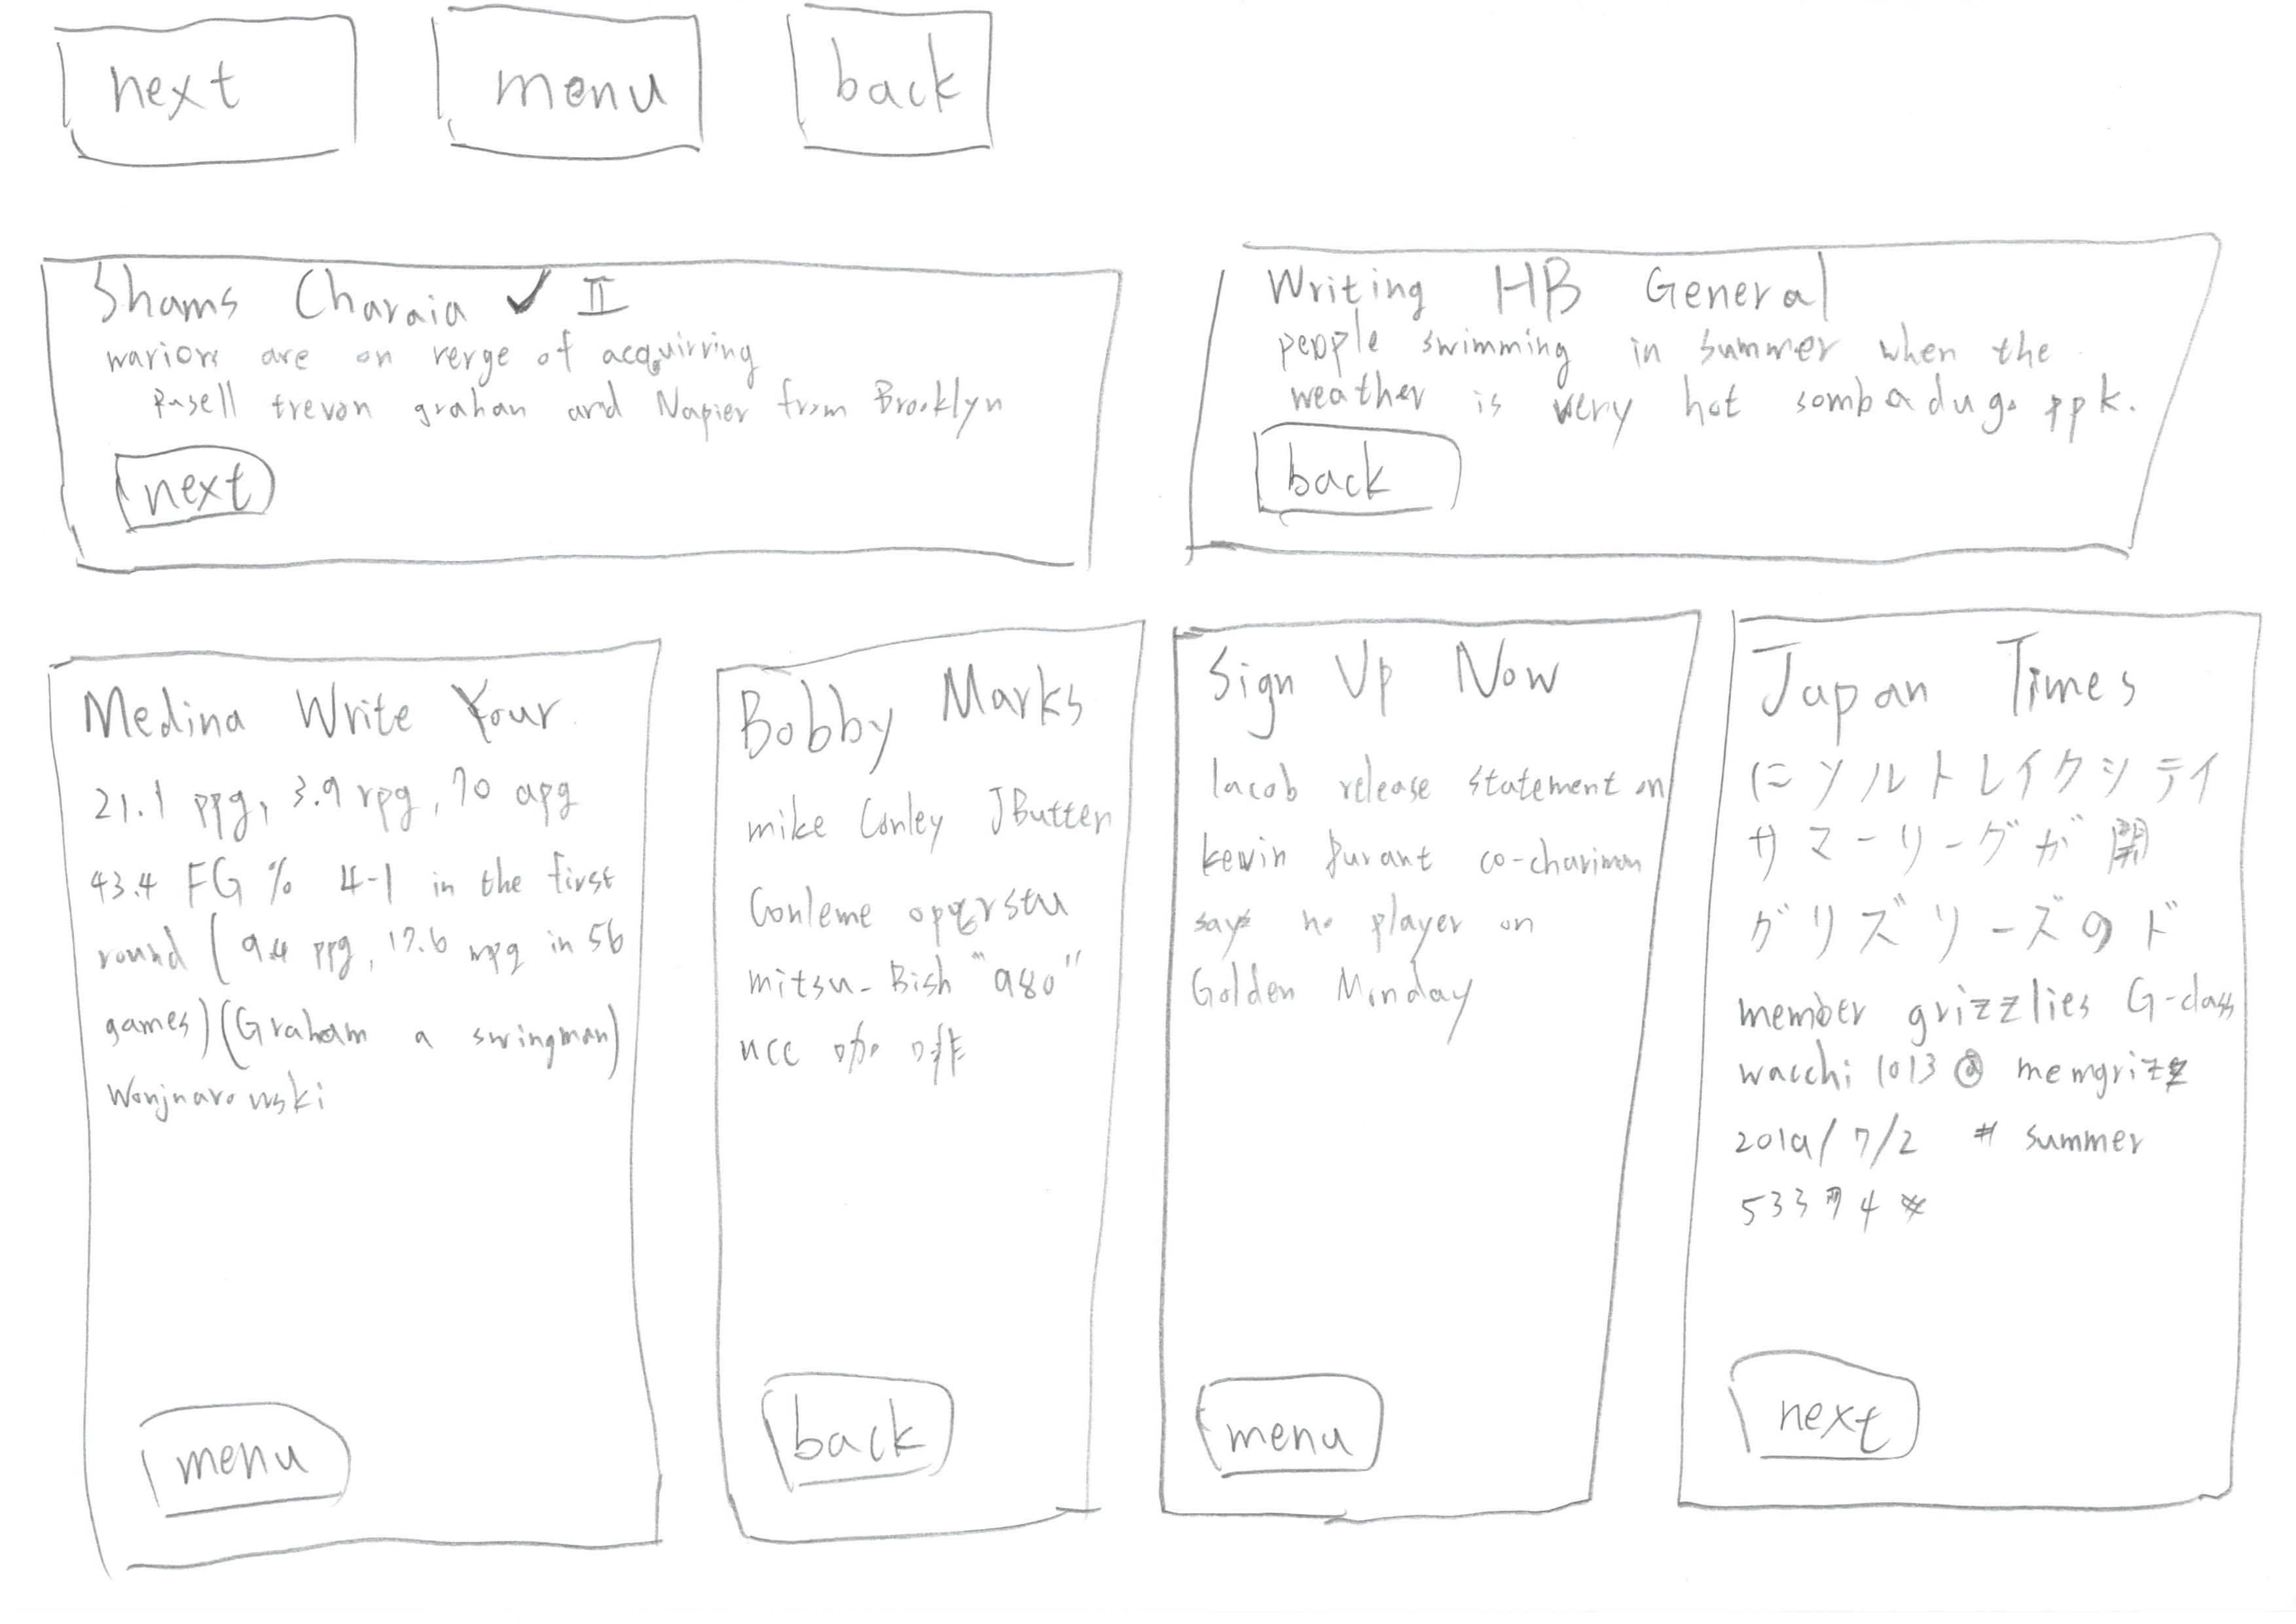back: (770, 0, 1021, 197), (733, 1352, 990, 1517), (1234, 417, 1507, 547)
double: (5, 221, 1152, 601), (1167, 207, 2240, 598)
menu: (404, 0, 744, 181), (113, 1369, 387, 1550), (1178, 1343, 1413, 1490)
next: (35, 5, 406, 209), (1682, 1311, 1946, 1490), (93, 439, 308, 550)
quadruple: (1637, 564, 2296, 1624), (23, 613, 680, 1613), (1146, 594, 1711, 1617), (684, 598, 1164, 1619)
row: (2, 566, 2296, 1624), (2, 207, 2296, 598), (2, 0, 2294, 206)
small-title: (1755, 634, 2199, 733), (83, 265, 658, 341), (1217, 638, 1607, 745), (1268, 257, 1937, 318), (70, 678, 582, 747), (738, 668, 1102, 761)
text: (1744, 749, 2212, 1251), (93, 750, 610, 1146), (1178, 750, 1658, 1044), (77, 318, 1018, 439), (754, 786, 1108, 1100), (1268, 322, 2147, 424)
